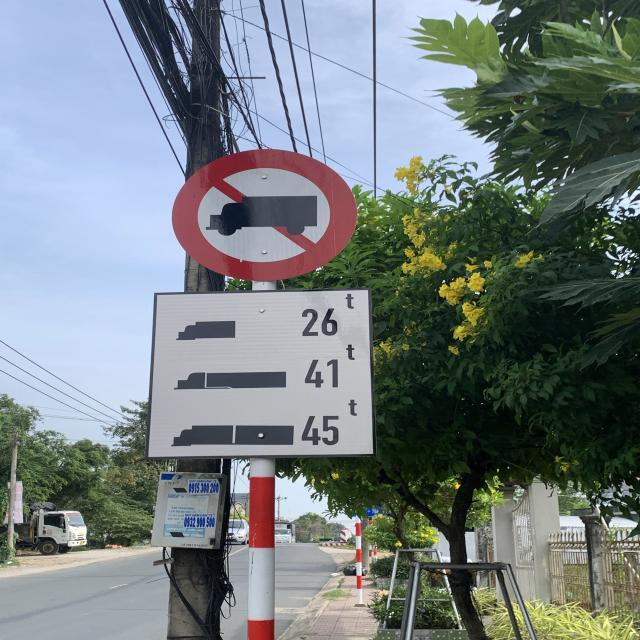Cam_Xe_Tai: (169, 146, 359, 282)
